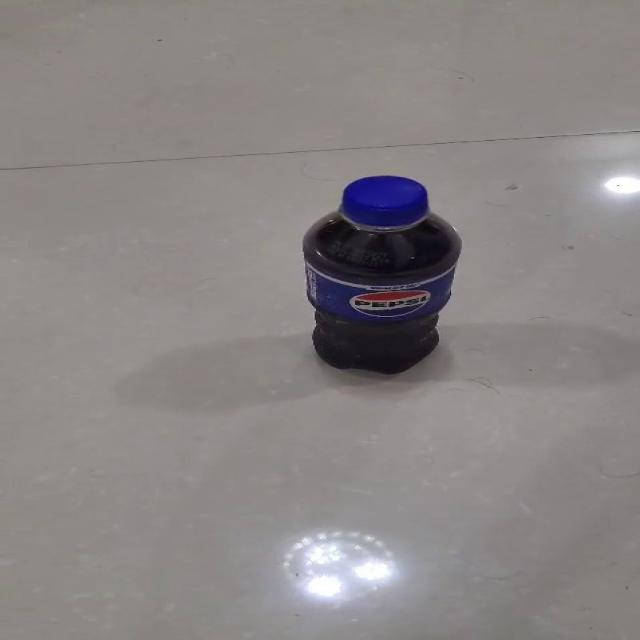plastic: (300, 174, 462, 374)
